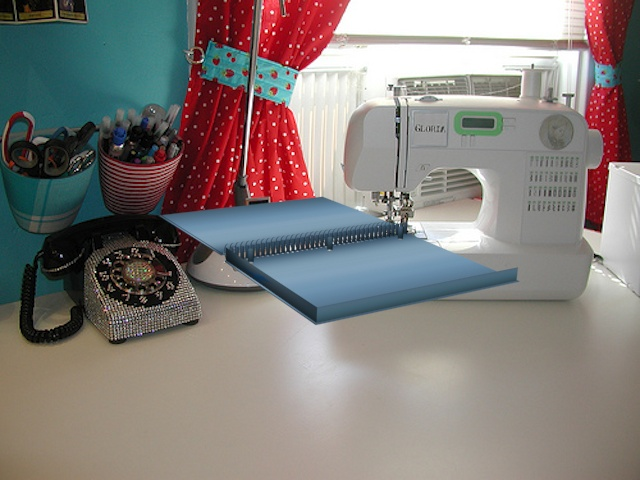paper_notebook: (153, 192, 528, 337)
